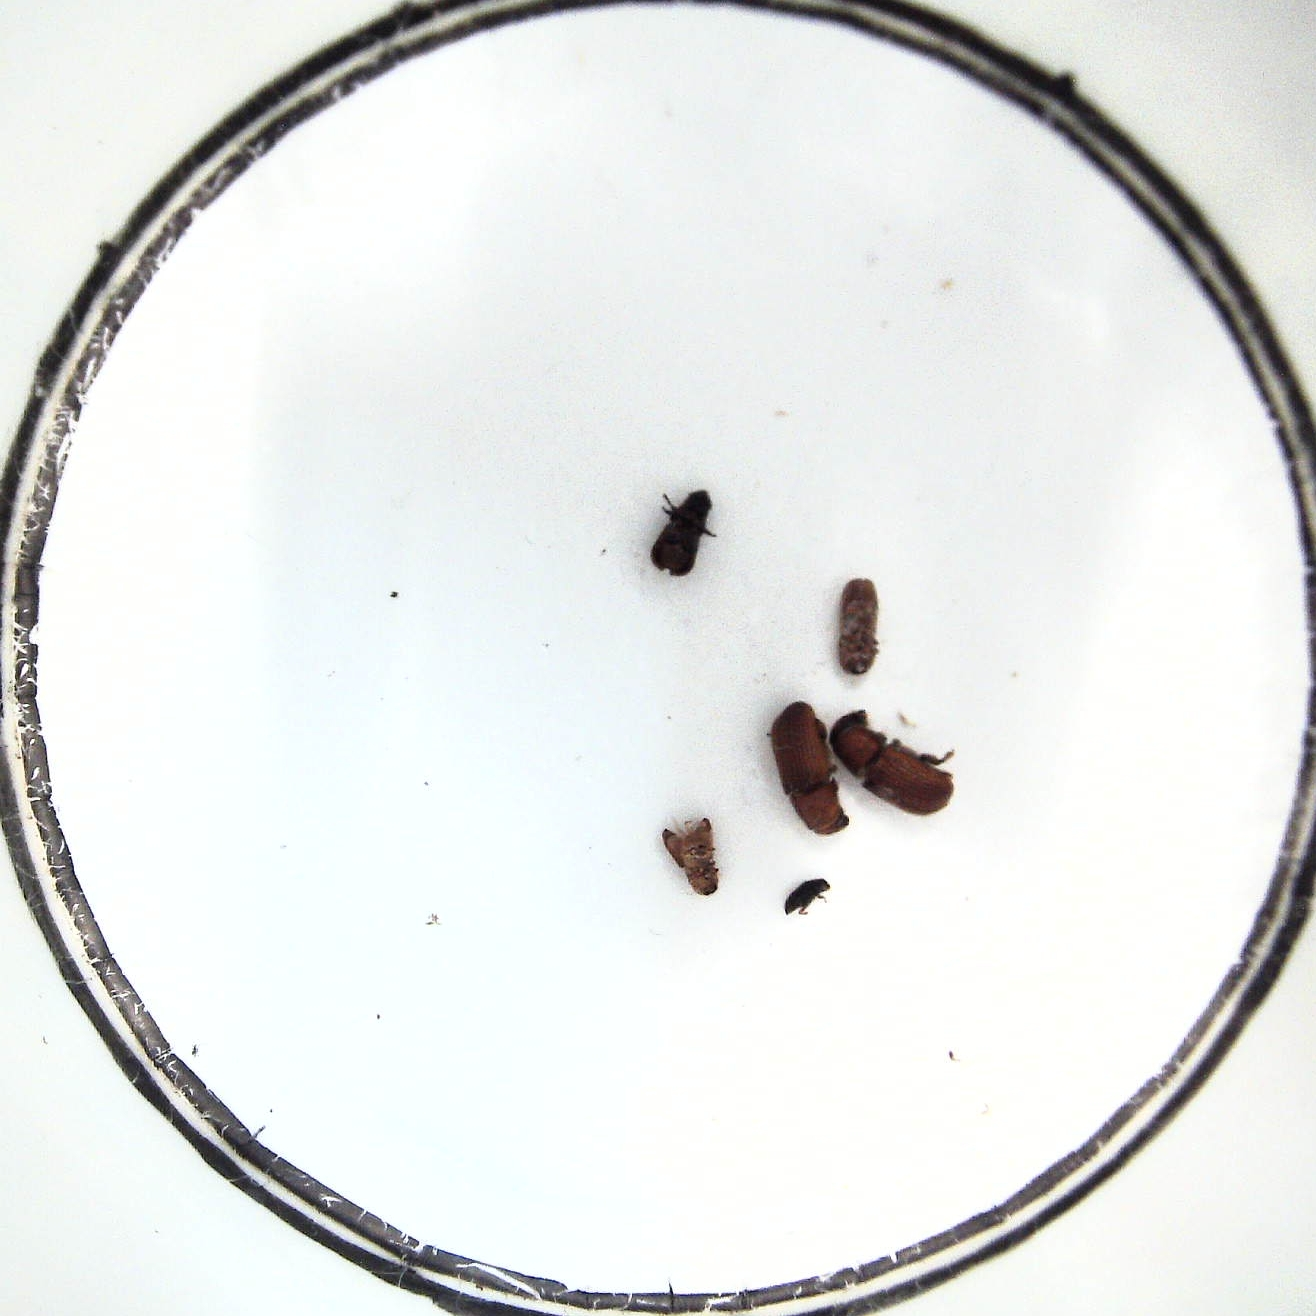Leconte: (833, 707, 954, 815), (766, 699, 850, 836)
Linnaeus: (836, 574, 880, 677)
acuminatus: (662, 813, 724, 894)
armandi: (647, 489, 717, 577)
coleoptera: (782, 874, 833, 920)
